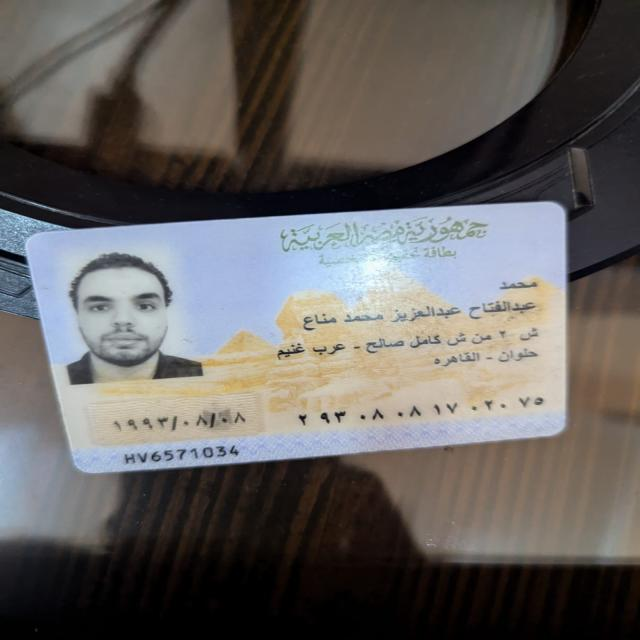ID-cards: (15, 195, 581, 484)
